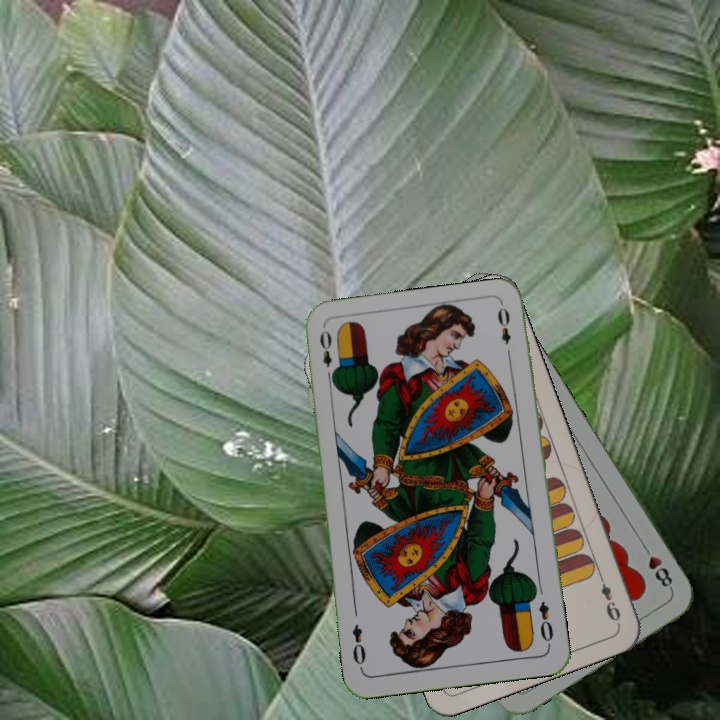E9: (594, 570, 624, 627)
EO: (315, 326, 339, 384), (535, 597, 556, 649)
H8: (638, 540, 676, 593)
